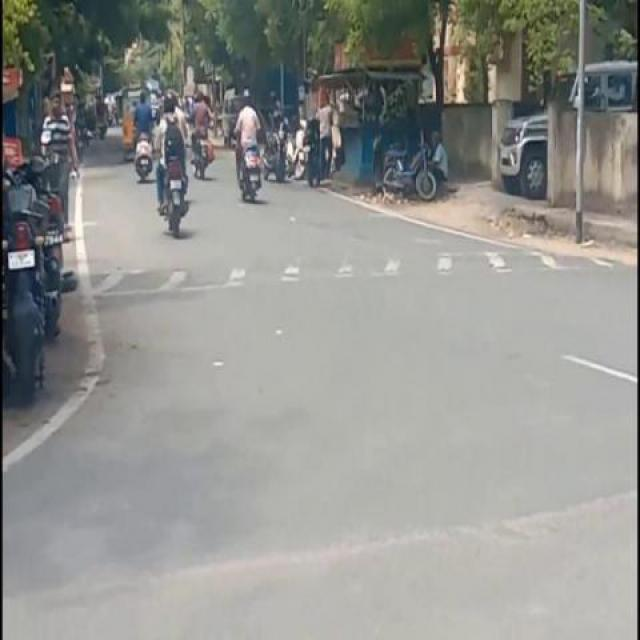Speed Bump: (89, 249, 620, 295)
